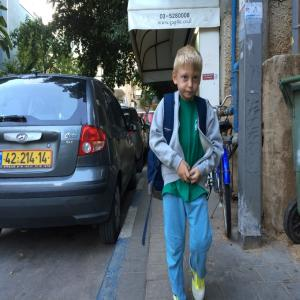Vehicle-registration-plate: (1, 149, 54, 170)
